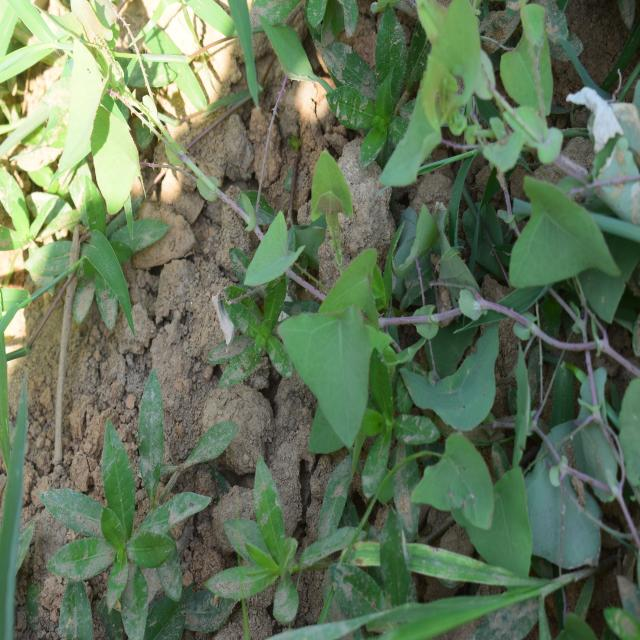Asiatic_Smartweed: (232, 143, 380, 400), (504, 168, 624, 298)
